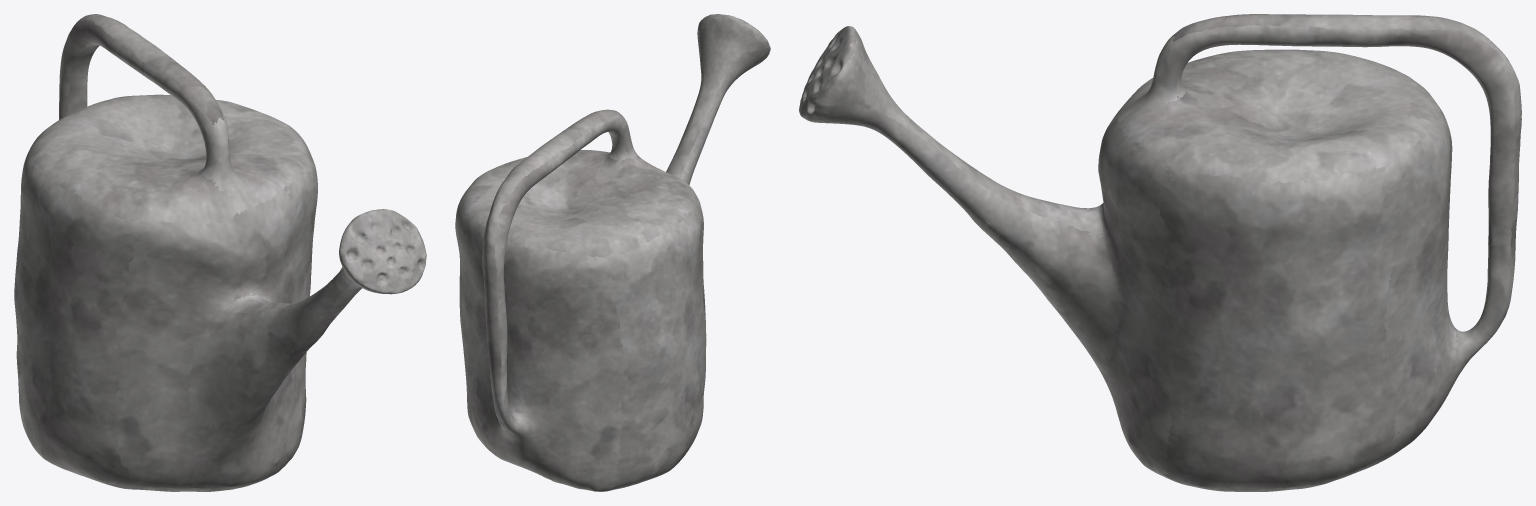
The model's file is watering_can.glb.
The picture shows the model from 3 angles, left to right: view 1: azimuth 30°, elevation 25°; view 2: azimuth 150°, elevation 25°; view 3: azimuth 270°, elevation 25°; orthographic projection. The views are drawn at different scales.
Parts seen in each view (by area): view 1: Blue Plastic Watering Can - Garden Prop; view 2: Blue Plastic Watering Can - Garden Prop; view 3: Blue Plastic Watering Can - Garden Prop.
Boxes of the visible parts, <box> form: Blue Plastic Watering Can - Garden Prop: <box>14,14,426,491</box>; Blue Plastic Watering Can - Garden Prop: <box>455,14,770,491</box>; Blue Plastic Watering Can - Garden Prop: <box>799,14,1521,491</box>.
Size of the model in its own units: 0.3526 by 0.4984 by 0.7466.
1 material, 1 textured.
